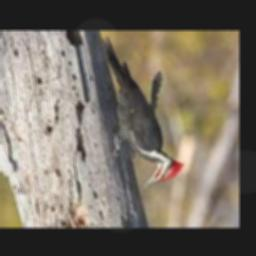Woodpecker: (101, 37, 184, 190)
